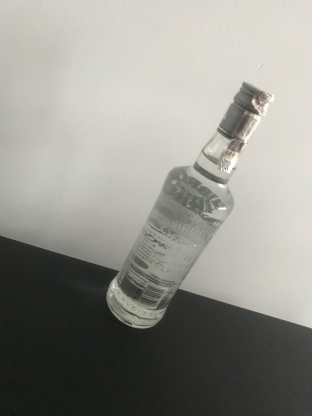nakretka: (215, 78, 275, 146)
